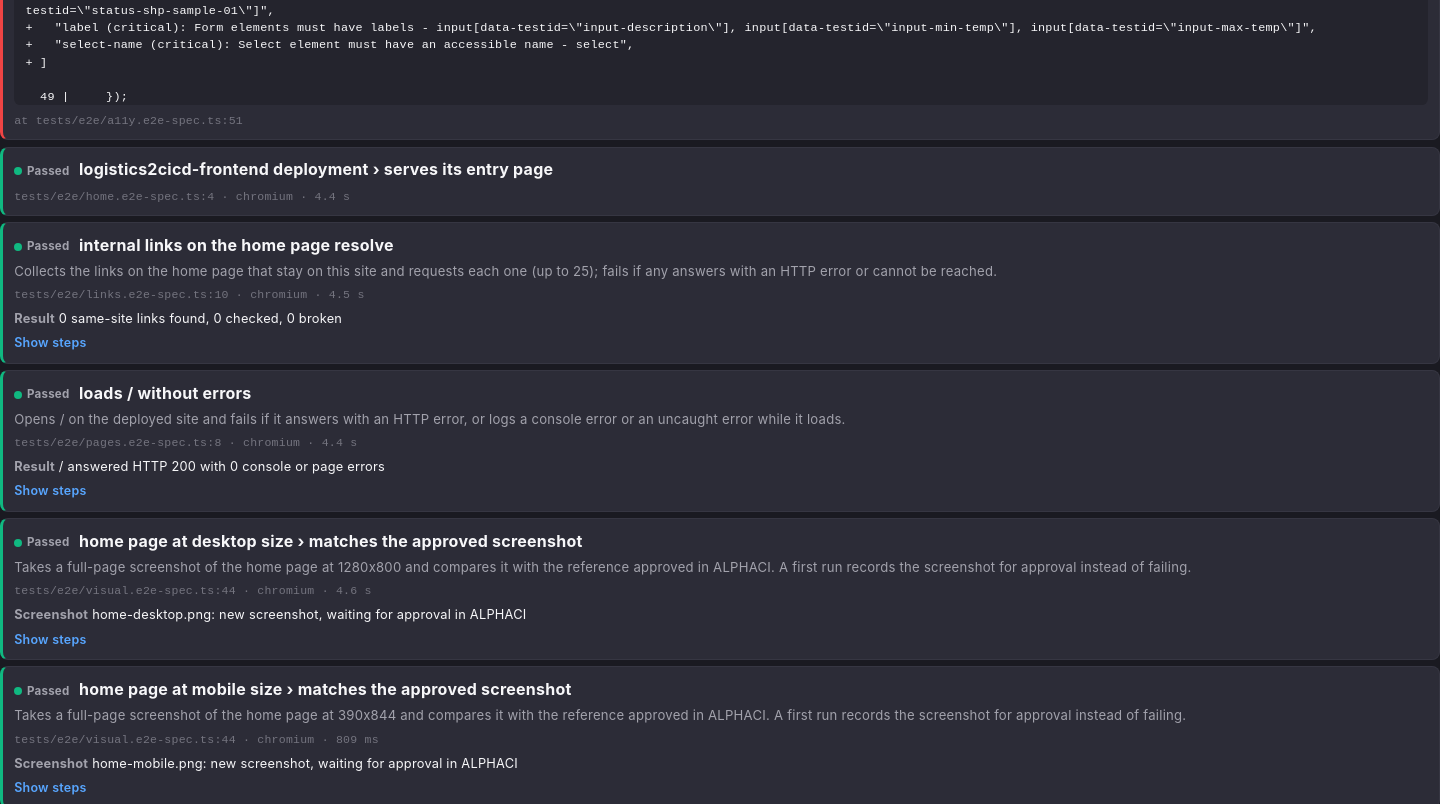
Test: TestCaseList on a real run › keeps a passing test's steps folded until asked
This screenshot has width=1440, height=804.
(page scrolled)
Click the button with class "tr-case__toggle" below "loads / without errors" at [50, 492], box [14,481,86,502]
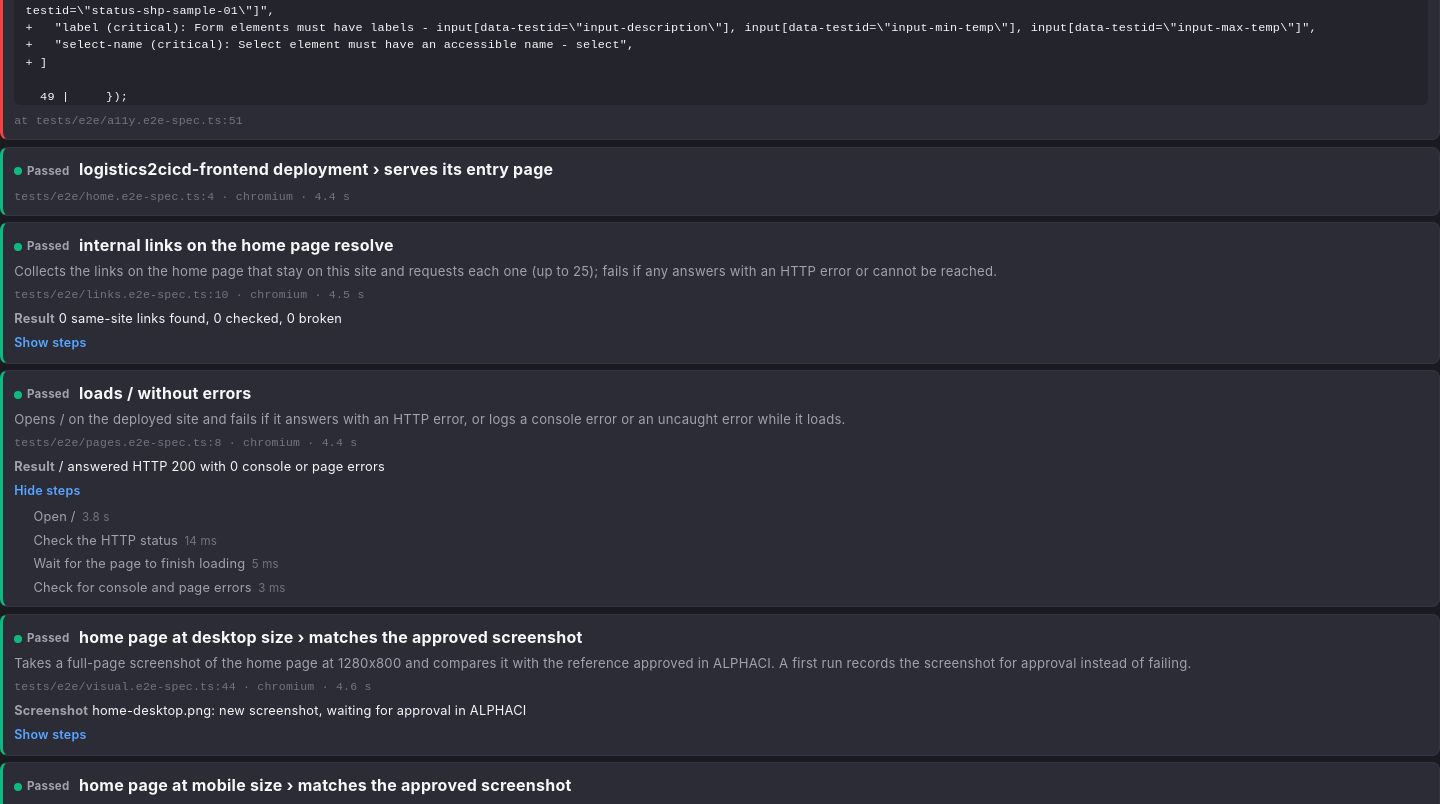
Check: the list with class "tr-case__steps" shows "Check the HTTP status", box [33,532,178,548]
